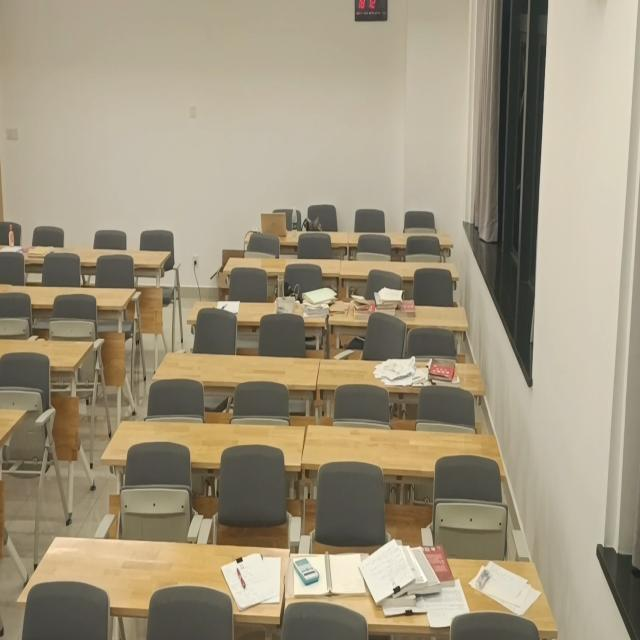Non-empty: (18, 534, 291, 619), (287, 555, 557, 632), (316, 356, 484, 392), (186, 295, 336, 324), (330, 303, 466, 334), (0, 240, 65, 260)
empty: (102, 419, 304, 472), (303, 424, 504, 474), (5, 280, 136, 306), (339, 254, 459, 282), (0, 337, 94, 368), (50, 244, 171, 268), (223, 255, 342, 275), (245, 228, 347, 246), (347, 233, 455, 250)
